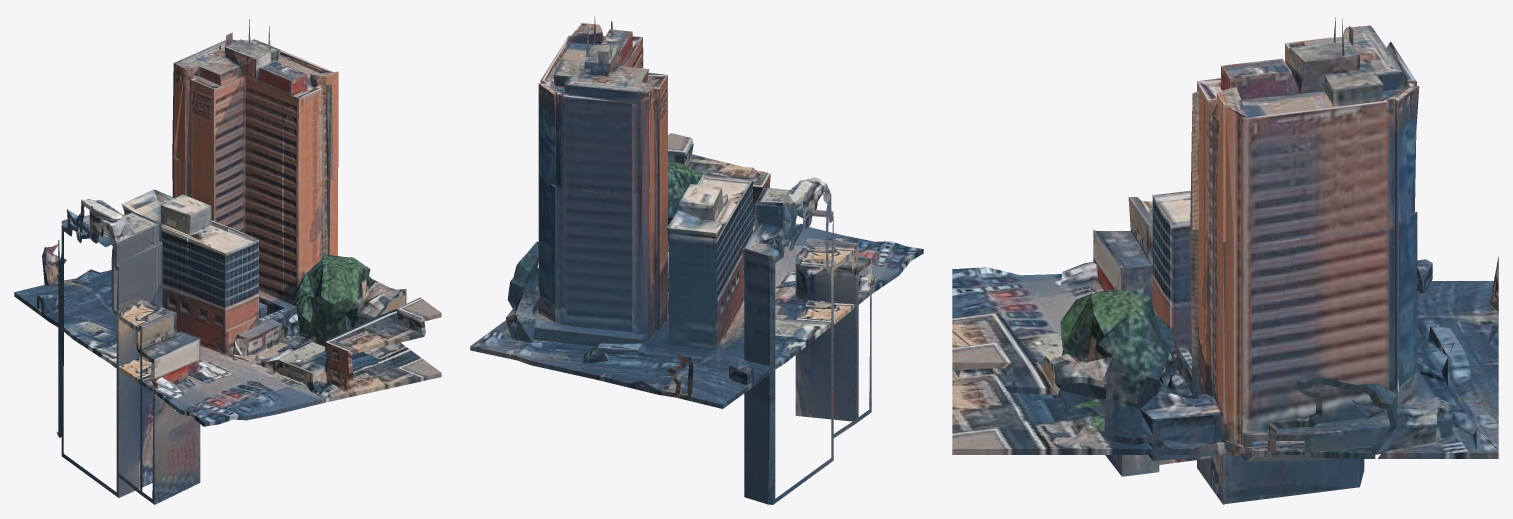
File: chunk_2_0.glb
The picture shows the model from 3 angles, left to right: view 1: azimuth 30°, elevation 25°; view 2: azimuth 150°, elevation 25°; view 3: azimuth 270°, elevation 25°; orthographic projection. The views are drawn at different scales.
Parts seen in each view (by area): view 1: hero-chunk; view 2: hero-chunk; view 3: hero-chunk.
Boxes of the visible parts, <box> form: hero-chunk: <box>14,19,441,504</box>; hero-chunk: <box>470,16,923,504</box>; hero-chunk: <box>952,17,1498,504</box>.
Bounding box in the file's own units: 55.42 × 89.6 × 76.32.
3 materials, 3 textured.
